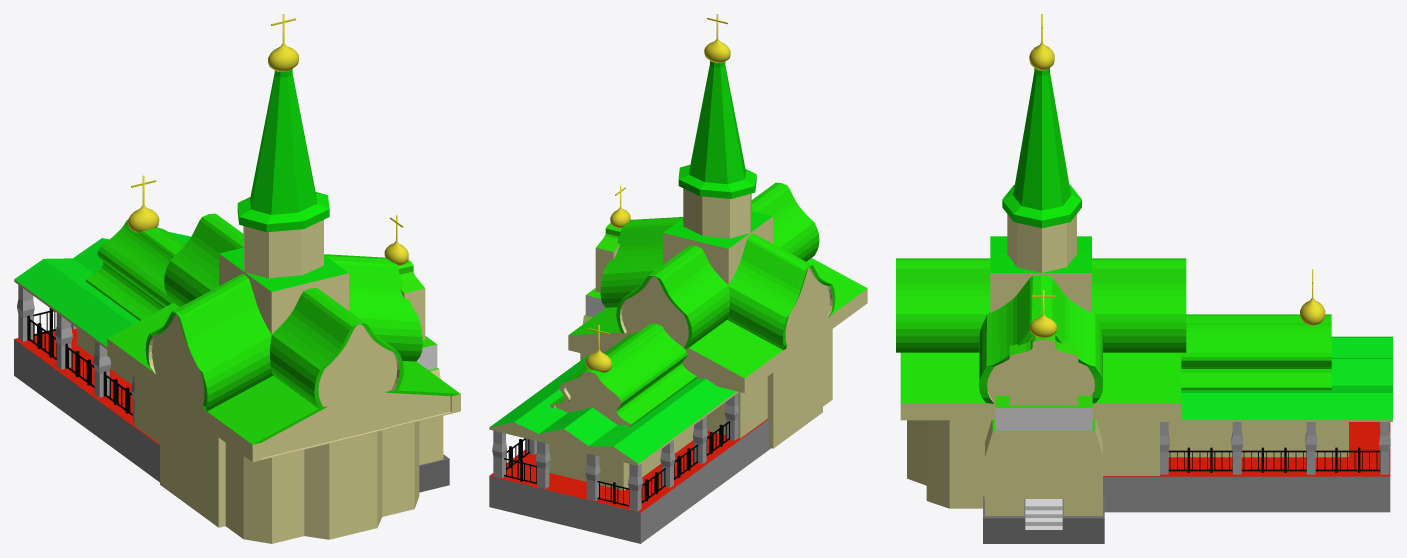
Rendered from hcurch2.fbx.
3 views of the same model, side by side, from view 1: azimuth 30°, elevation 25°; view 2: azimuth 150°, elevation 25°; view 3: azimuth 270°, elevation 25° (orthographic). The views are drawn at different scales.
Visible parts, largest first — view 1: roof.001, Cube, Cylinder, Cube.001, roof, roof1, roof.002, pristroika, Cube.012, krest, krest.001, Cube.006 (+2 smaller); view 2: roof.001, Cube.001, roof, Cube, Cylinder, roof1, roof.002, pristroika, Cube.010, Cube.006, Cube.011, Cube.005 (+5 smaller); view 3: roof.001, Cube, pristroika, Cube.001, roof1, roof, Cylinder, Cube.012, roof.002, krest.002, krest, krest.001.
Boxes of the visible parts, x1=… form: roof.001: x1=107, y1=213, x2=460, y2=462; Cube: x1=77, y1=328, x2=419, y2=543; Cylinder: x1=237, y1=69, x2=329, y2=278; Cube.001: x1=14, y1=329, x2=159, y2=482; roof: x1=14, y1=232, x2=190, y2=349; roof1: x1=86, y1=219, x2=185, y2=320; roof.002: x1=219, y1=247, x2=348, y2=334; pristroika: x1=397, y1=259, x2=443, y2=464; Cube.012: x1=419, y1=454, x2=449, y2=492; krest: x1=268, y1=14, x2=298, y2=71; krest.001: x1=128, y1=175, x2=159, y2=232; Cube.006: x1=17, y1=285, x2=34, y2=341; roof.001: x1=568, y1=182, x2=867, y2=393; Cube.001: x1=489, y1=418, x2=770, y2=543; roof: x1=489, y1=355, x2=738, y2=465; Cube: x1=549, y1=329, x2=832, y2=490; Cylinder: x1=678, y1=61, x2=756, y2=238; roof1: x1=550, y1=323, x2=696, y2=426; roof.002: x1=663, y1=211, x2=772, y2=284; pristroika: x1=580, y1=223, x2=621, y2=360; Cube.010: x1=585, y1=453, x2=600, y2=501; Cube.006: x1=628, y1=464, x2=642, y2=511; Cube.011: x1=535, y1=441, x2=550, y2=488; Cube.005: x1=492, y1=430, x2=507, y2=478; roof.001: x1=896, y1=258, x2=1186, y2=420; Cube: x1=907, y1=420, x2=1348, y2=508; pristroika: x1=985, y1=334, x2=1102, y2=515; Cube.001: x1=1103, y1=422, x2=1390, y2=512; roof1: x1=1181, y1=314, x2=1331, y2=390; roof: x1=1157, y1=336, x2=1392, y2=421; Cylinder: x1=1002, y1=68, x2=1081, y2=275; Cube.012: x1=983, y1=496, x2=1104, y2=543; roof.002: x1=990, y1=236, x2=1091, y2=312; krest.002: x1=1029, y1=290, x2=1056, y2=337; krest: x1=1029, y1=14, x2=1054, y2=70; krest.001: x1=1300, y1=269, x2=1325, y2=325.
Bounding box in the file's own units: 1939 × 3646 × 3525.
